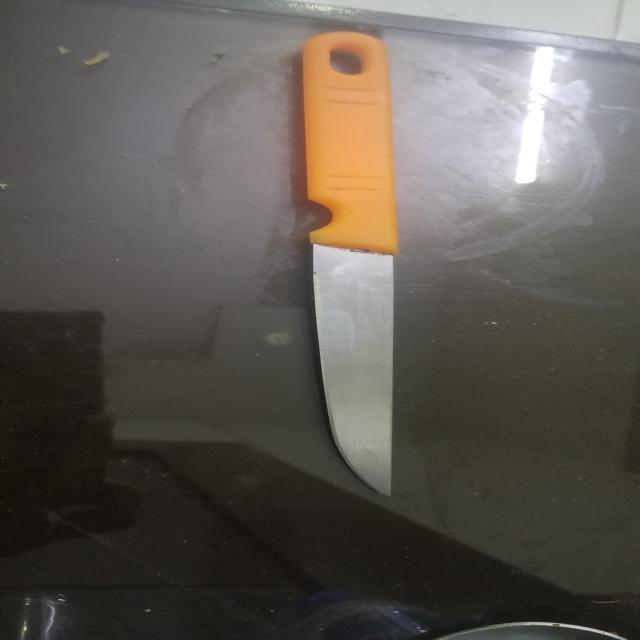Knife: (259, 37, 461, 510)
